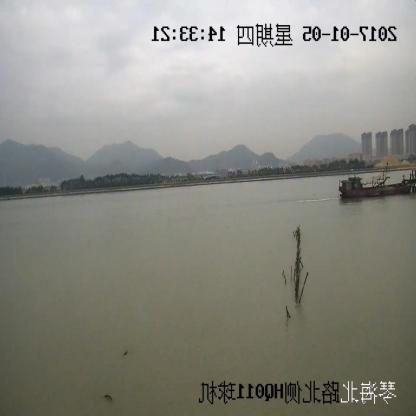Fishing Boat: (338, 167, 416, 200)
